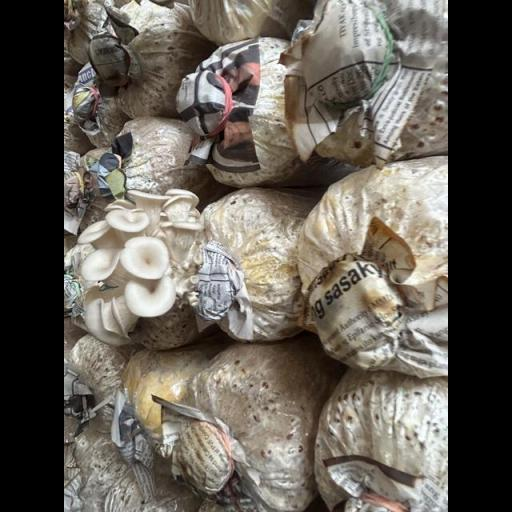White Oyster Mushroom: (75, 184, 208, 351)
